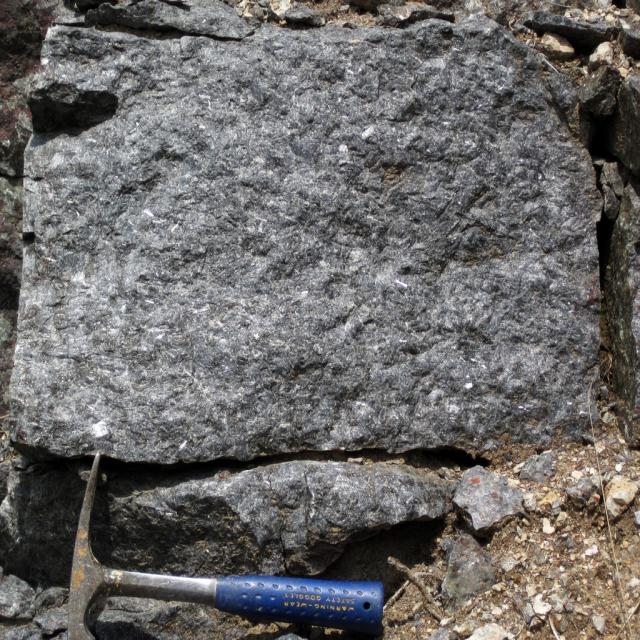hammer: (66, 451, 380, 640)
